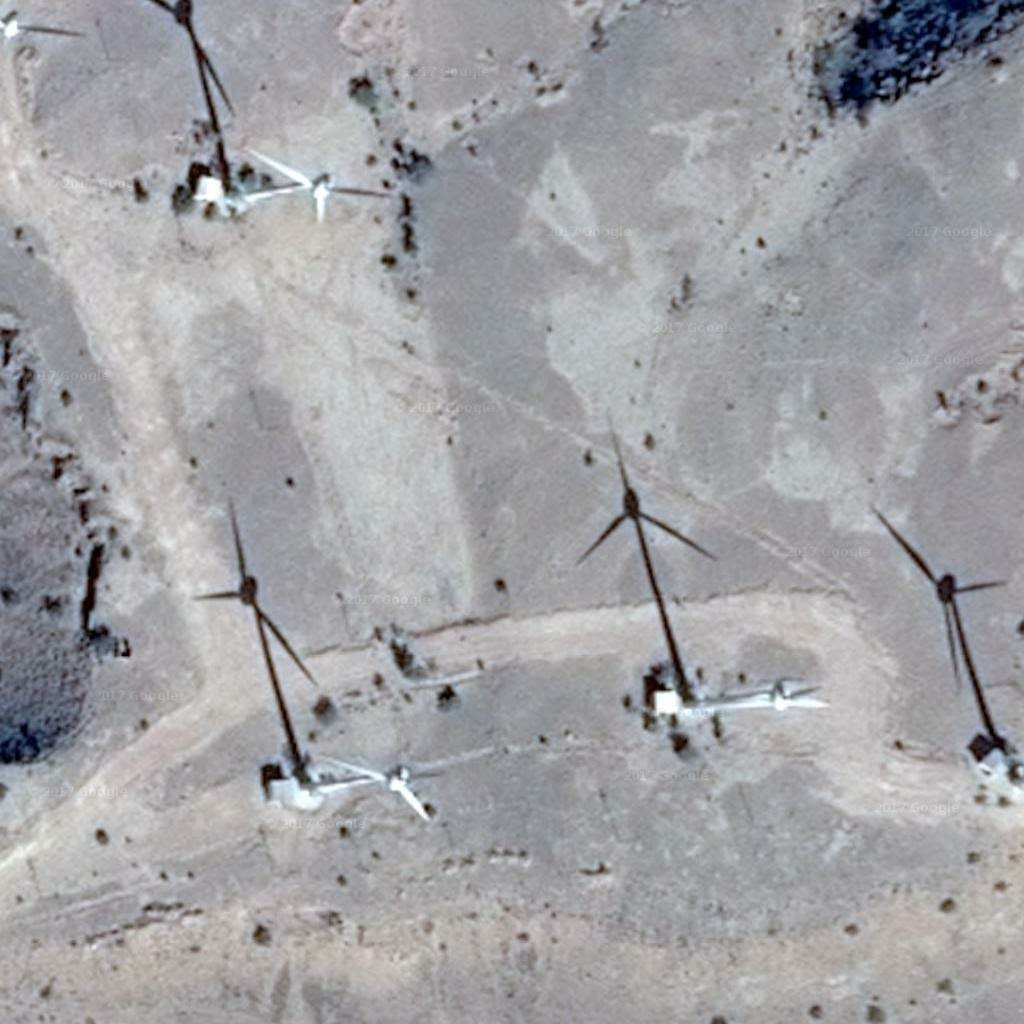Windmill: (581, 415, 712, 694)
